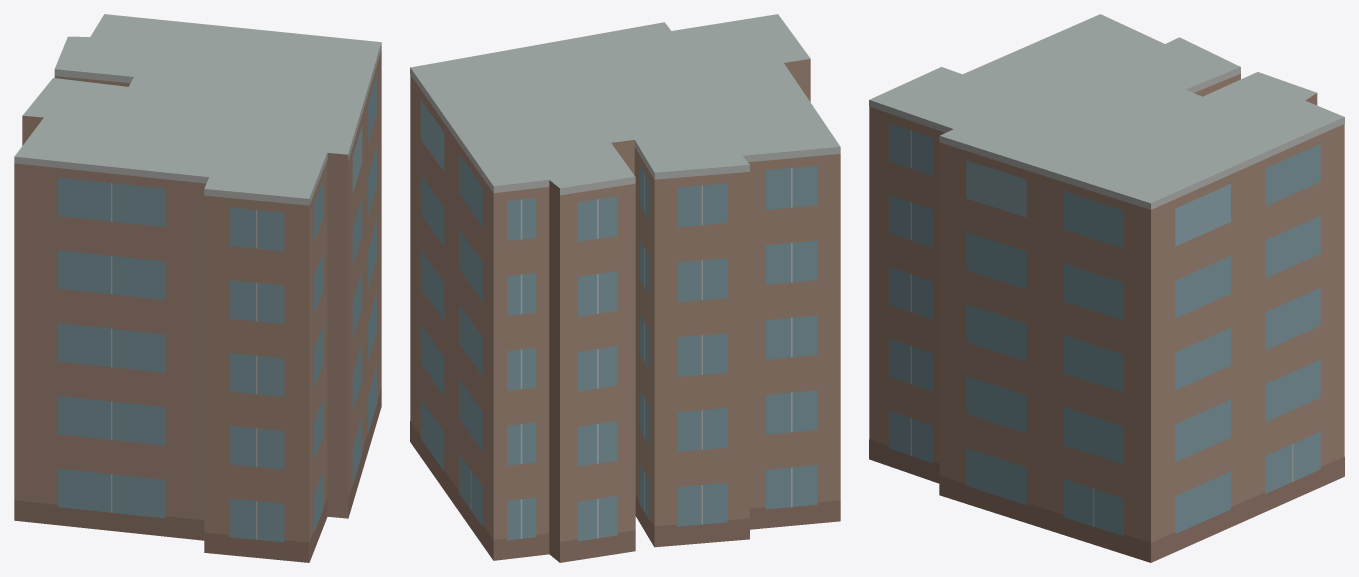
File: survey-upis-32961451.glb
The picture shows the model from 3 angles, left to right: view 1: azimuth 30°, elevation 25°; view 2: azimuth 150°, elevation 25°; view 3: azimuth 270°, elevation 25°; orthographic projection. The views are drawn at different scales.
Parts seen in each view (by area): view 1: survey-upis-32961451.tmp; view 2: survey-upis-32961451.tmp; view 3: survey-upis-32961451.tmp.
Part boxes in pixels (left/top/right/bottom): survey-upis-32961451.tmp: left=14, top=14, right=381, bottom=562; survey-upis-32961451.tmp: left=410, top=14, right=840, bottom=562; survey-upis-32961451.tmp: left=869, top=14, right=1344, bottom=562.
Bounding box in the file's own units: 14.92 × 13.2 × 15.84.
